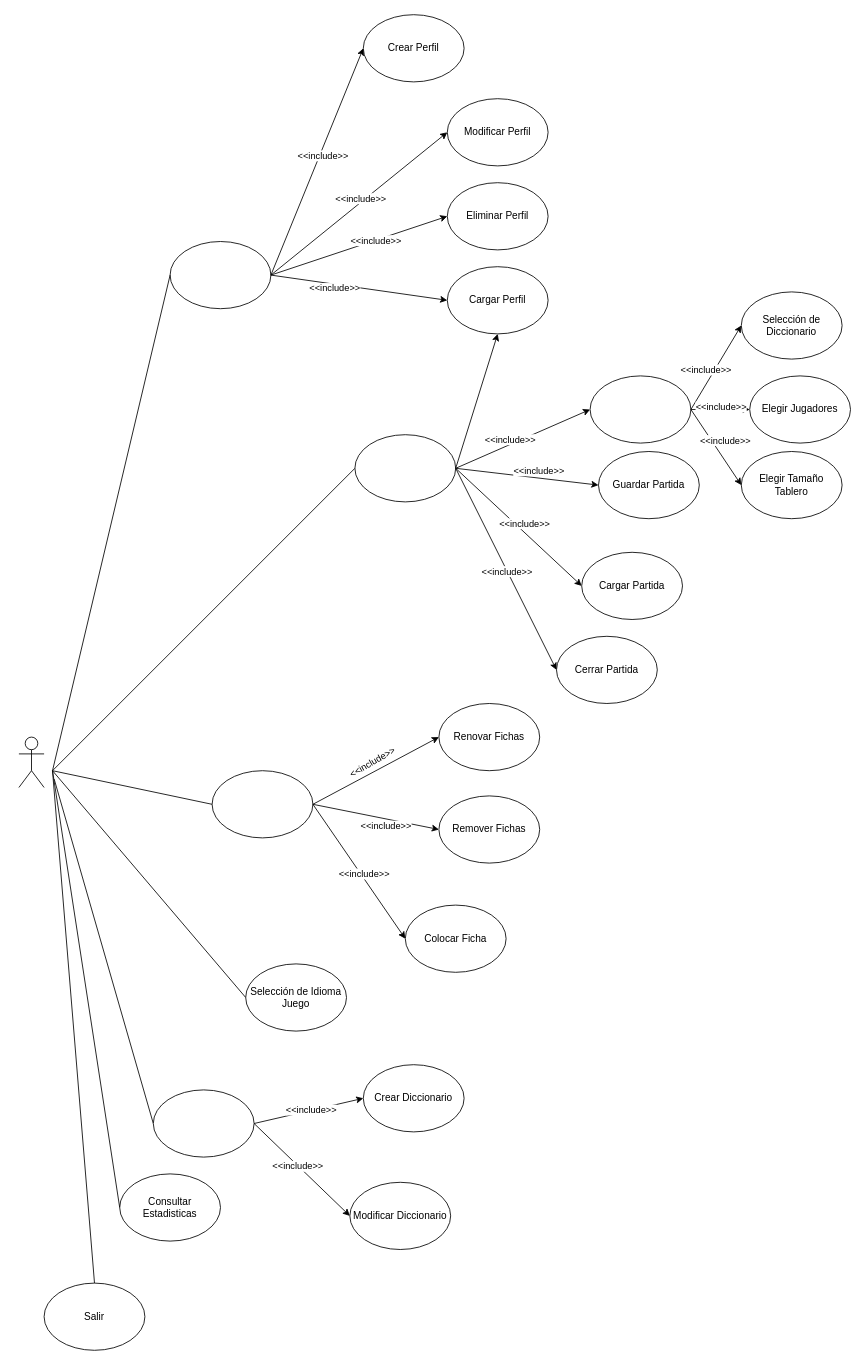
This 865x1365 diagram has some shape labels left out. Here are the shapes that lost their labels. From the top down, the centre of each, then its label:
At (x=220, y=275): "Gestión de Perfil".
At (x=640, y=409): "Iniciar Partida".
At (x=405, y=468): "Gestión de Partida".
At (x=31, y=762): "Usuario".
At (x=262, y=804): "Gestión de movimientos".
At (x=203, y=1123): "Gestión de Diccionarios".
